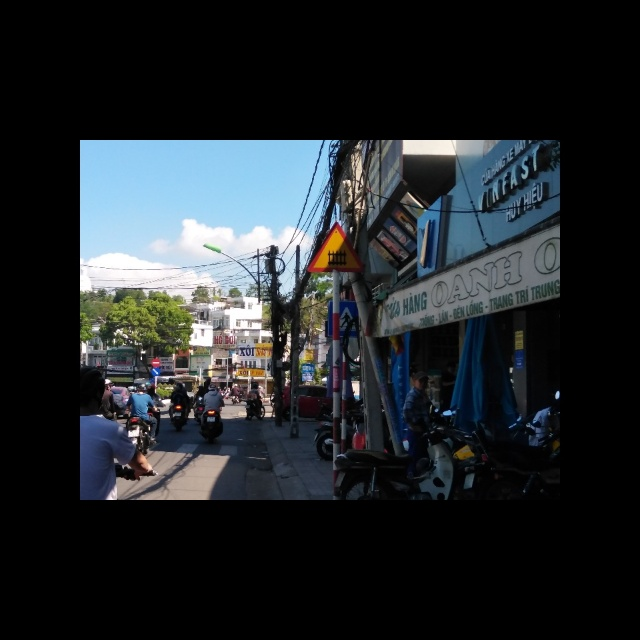Giao nhau với đường sắt có rào chắn: (304, 219, 366, 271)
